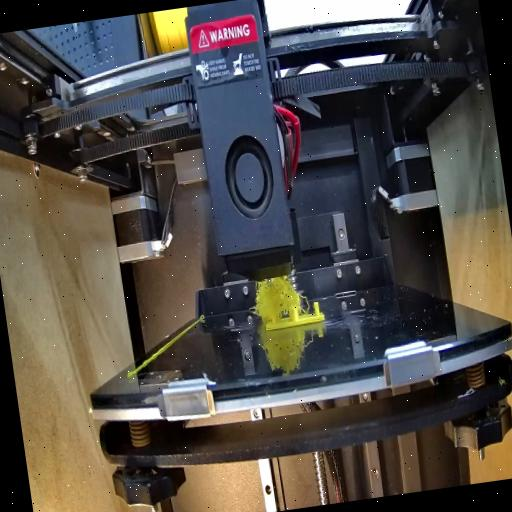spaghetti: (246, 272, 310, 322)
